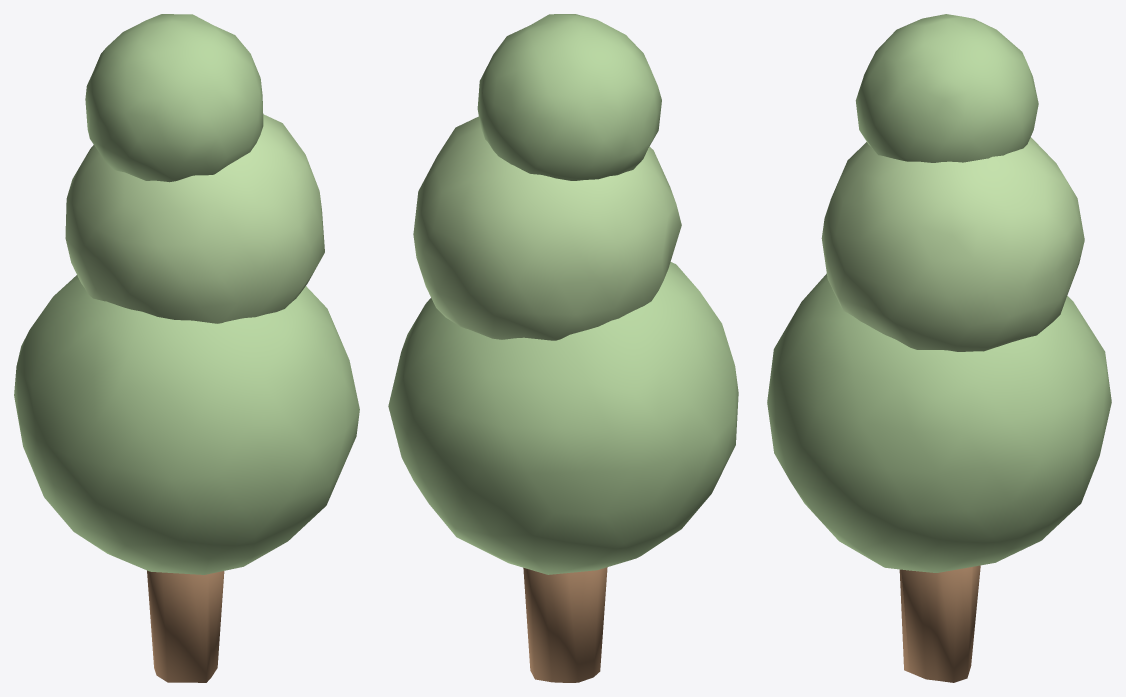
The model's file is tree.glb.
The picture shows the model from 3 angles, left to right: view 1: azimuth 30°, elevation 25°; view 2: azimuth 150°, elevation 25°; view 3: azimuth 270°, elevation 25°; orthographic projection.
Parts seen in each view (by area): view 1: tree; view 2: tree; view 3: tree.
Boxes of the visible parts, x1=… form: tree: x1=14, y1=14, x2=359, y2=682; tree: x1=388, y1=14, x2=738, y2=682; tree: x1=767, y1=14, x2=1111, y2=682.
Size of the model in its own units: 0.8334 by 1.75 by 0.8449.
